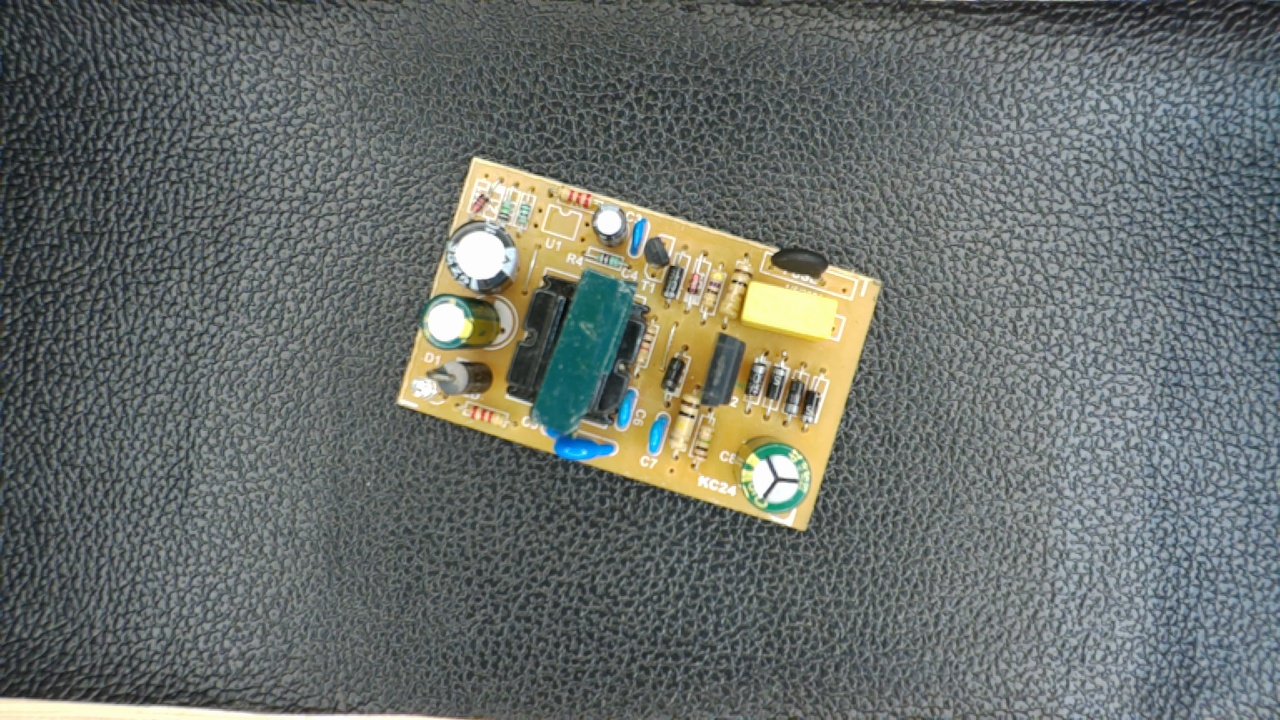fuse: (761, 243, 833, 287)
hv_capacitor: (731, 432, 815, 513)
mov: (537, 420, 621, 467)
